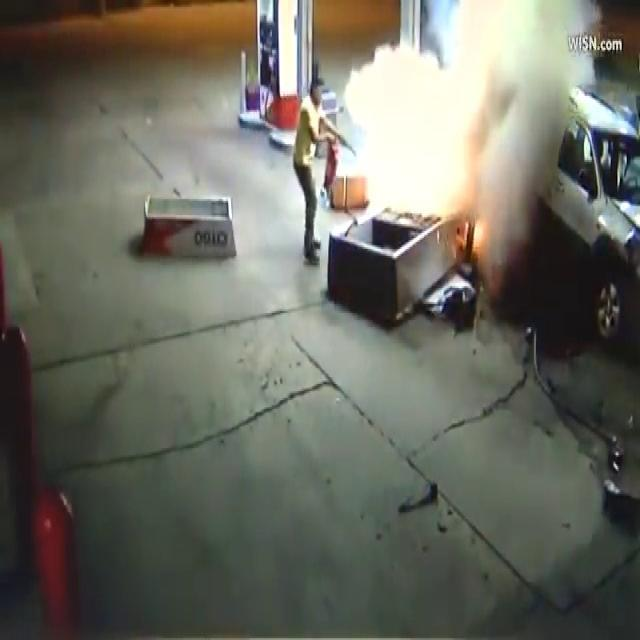Smoke: (348, 1, 584, 239)
